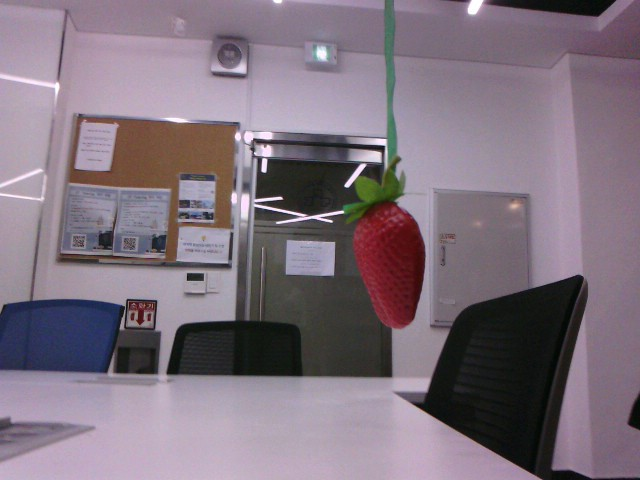strawberry: (345, 191, 429, 330)
